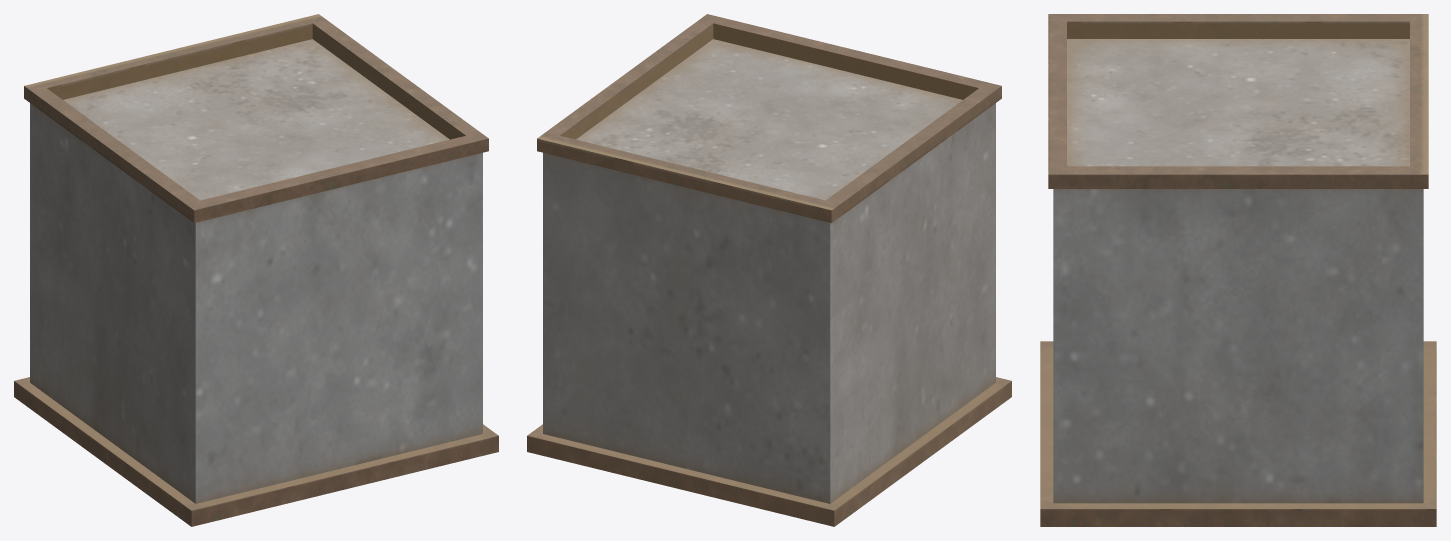
The picture shows the model from 3 angles, left to right: view 1: azimuth 30°, elevation 25°; view 2: azimuth 150°, elevation 25°; view 3: azimuth 270°, elevation 25°; orthographic projection. The views are drawn at different scales.
Visible parts, largest first — view 1: Cube4m_sh_14, Cube4m_sh_27, Cube4m_sh_10, Cube4m_sh_26, Cube4m_sh_15, Cube4m_sh_1, Cube4m_sh_29, Cube4m_sh_6, Cube4m_sh_5, Cube4m_sh_8, Cube4m_sh_19, Cube4m_sh_18 (+8 smaller); view 2: Cube4m_sh_9, Cube4m_sh_10, Cube4m_sh_30, Cube4m_sh_28, Cube4m_sh_25, Cube4m_sh_29, Cube4m_sh_1, Cube4m_sh_23, Cube4m_sh_2, Cube4m_sh_27, Cube4m_sh_5, Cube4m_sh_14 (+9 smaller); view 3: Cube4m_sh_12, Cube4m_sh_23, Cube4m_sh_26, Cube4m_sh_21, Cube4m_sh_1, Cube4m_sh_24, Cube4m_sh_27, Cube4m_sh_8, Cube4m_sh_6, Cube4m_sh_29, Cube4m_sh_25, Cube4m_sh_5 (+8 smaller).
Part boxes in pixels (x1,y1,x2,y2): Cube4m_sh_14: [141, 299, 340, 526]; Cube4m_sh_27: [270, 125, 488, 319]; Cube4m_sh_10: [33, 260, 147, 470]; Cube4m_sh_26: [339, 247, 482, 423]; Cube4m_sh_15: [132, 181, 317, 329]; Cube4m_sh_1: [89, 128, 297, 239]; Cube4m_sh_29: [24, 61, 157, 236]; Cube4m_sh_6: [347, 363, 498, 488]; Cube4m_sh_5: [144, 32, 362, 98]; Cube4m_sh_8: [205, 52, 409, 138]; Cube4m_sh_19: [60, 127, 157, 286]; Cube4m_sh_18: [114, 412, 348, 509]; Cube4m_sh_9: [653, 392, 859, 526]; Cube4m_sh_10: [833, 287, 949, 507]; Cube4m_sh_30: [687, 176, 850, 427]; Cube4m_sh_28: [548, 262, 708, 449]; Cube4m_sh_25: [537, 118, 674, 292]; Cube4m_sh_29: [730, 162, 892, 327]; Cube4m_sh_1: [828, 61, 1001, 190]; Cube4m_sh_23: [527, 291, 658, 483]; Cube4m_sh_2: [653, 231, 818, 420]; Cube4m_sh_27: [691, 14, 898, 109]; Cube4m_sh_5: [565, 104, 747, 236]; Cube4m_sh_14: [944, 208, 1011, 425]; Cube4m_sh_12: [1053, 134, 1254, 350]; Cube4m_sh_23: [1248, 340, 1436, 526]; Cube4m_sh_26: [1053, 294, 1244, 482]; Cube4m_sh_21: [1253, 170, 1410, 346]; Cube4m_sh_1: [1048, 14, 1287, 94]; Cube4m_sh_24: [1161, 365, 1286, 526]; Cube4m_sh_27: [1048, 70, 1193, 249]; Cube4m_sh_8: [1192, 106, 1332, 224]; Cube4m_sh_6: [1040, 424, 1169, 526]; Cube4m_sh_29: [1291, 14, 1428, 91]; Cube4m_sh_25: [1357, 135, 1428, 343]; Cube4m_sh_5: [1318, 76, 1428, 184].
Bounding box in the file's own units: 400 × 389 × 400.
Materials: 2 (1 with a texture image).
